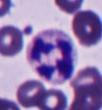N: (26, 29, 78, 84)
